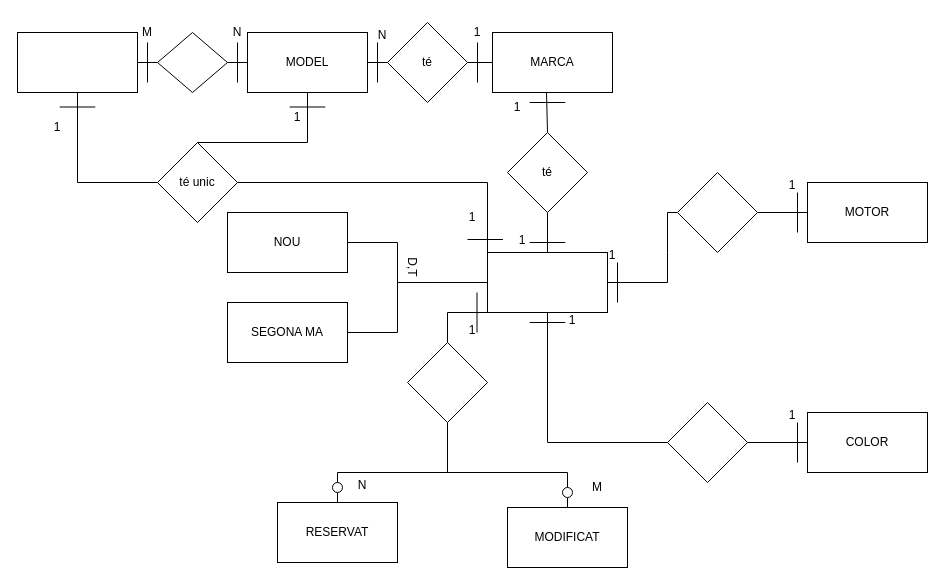
The diagram is 945 pixels wide and 585 high, and some of its shapes have lost their labels. The centre of each missing label's shape, as x and y in pixels:
"COTXE" goes at pixel 547 282.
"deferents" goes at pixel 192 62.
"pintat" goes at pixel 707 442.
"pot estar" goes at pixel 447 382.
"TIPUS" goes at pixel 77 62.
"té tipus" goes at pixel 717 212.
